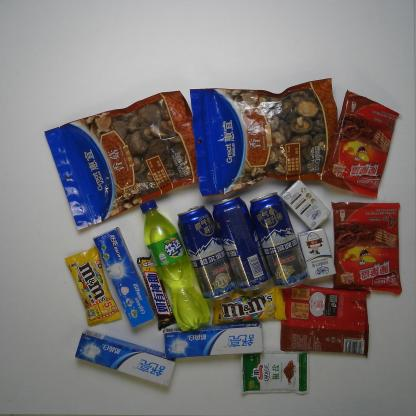Alcohol: (248, 192, 310, 290), (176, 204, 238, 302), (212, 195, 272, 293)
Chocolate: (63, 246, 122, 329), (137, 254, 178, 332), (211, 286, 288, 325)
Dessert: (320, 88, 402, 200), (331, 200, 403, 296), (280, 284, 372, 359)
Dried Food: (43, 89, 199, 232), (189, 76, 339, 198)
Drink: (140, 198, 212, 332)
Milk: (278, 179, 332, 231), (297, 226, 337, 282)
Personal Hygiene: (92, 226, 156, 330), (74, 328, 176, 388), (162, 320, 264, 361)
Seasoner: (239, 350, 311, 396)
